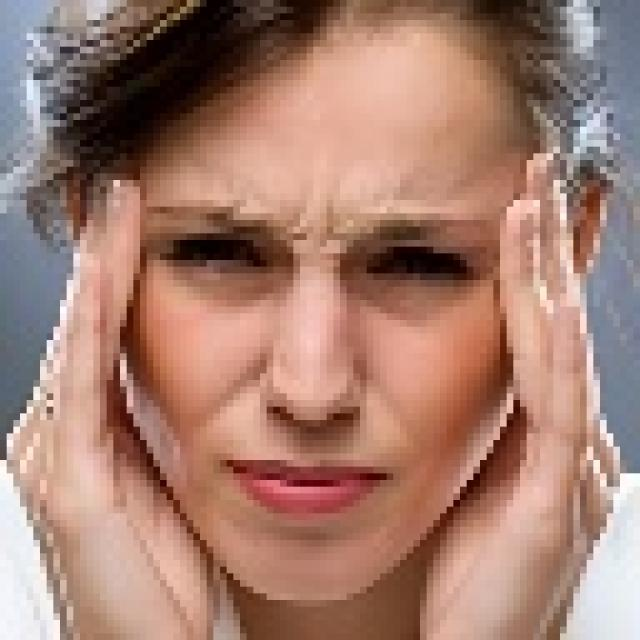sad: (72, 72, 532, 633)
